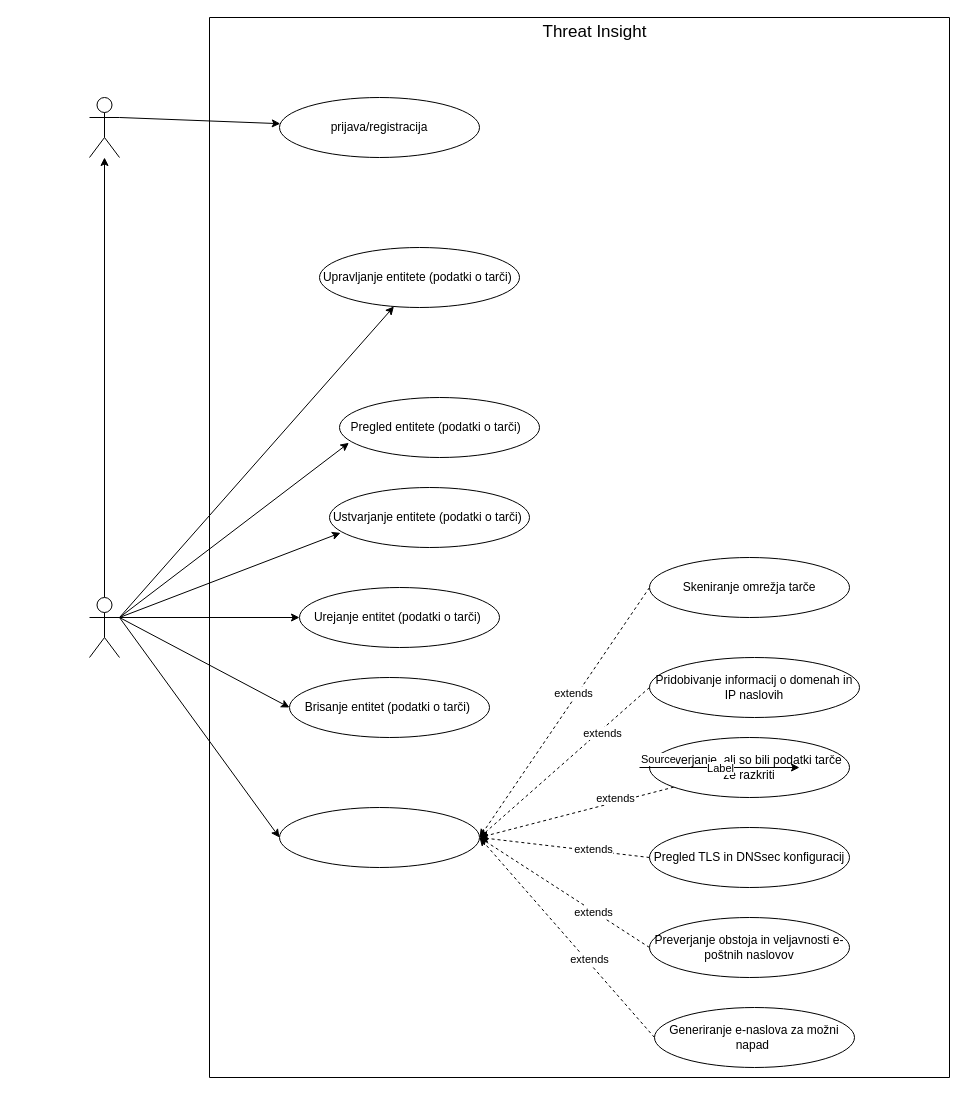
This 967x1095 diagram has some shape labels left out. Here are the shapes that lost their labels. From the top down, the box of each, then its label:
(88, 96, 120, 158): Neprijavljen uporabnik
(88, 596, 120, 658): Penertracijski tester/ etični heker - prijavljen uporabnik
(278, 806, 480, 868): Uporaba varnostnih orodij
